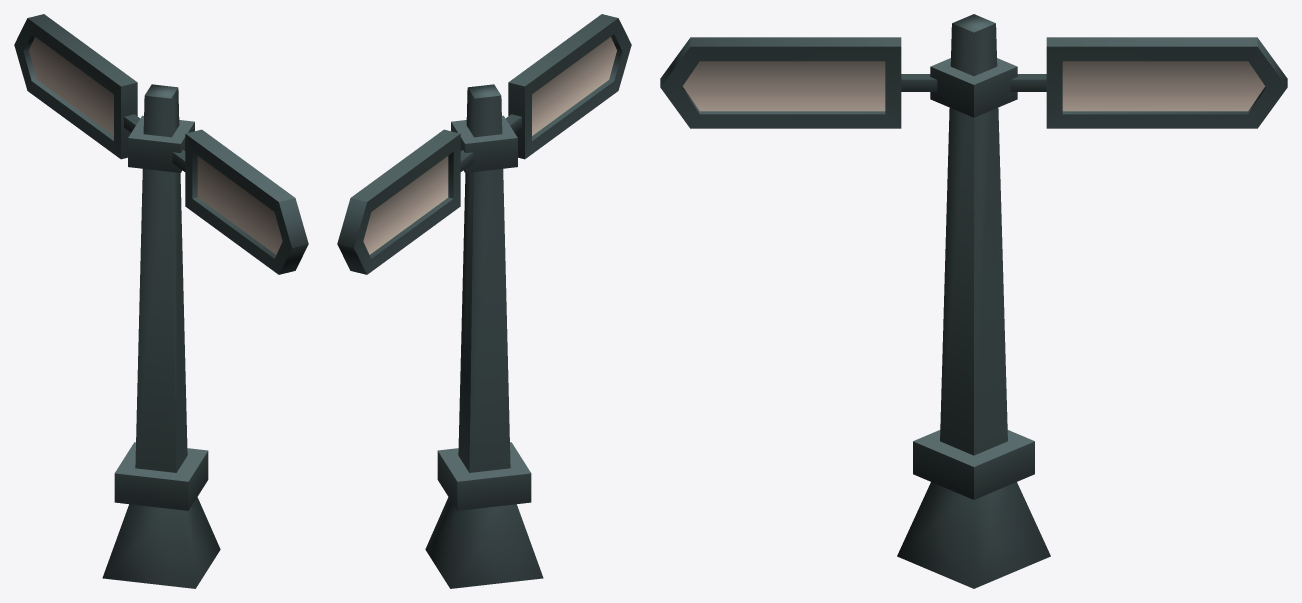
Rendered from Streetsign_1A.fbx.
3 renders of one model, left to right at view 1: azimuth 30°, elevation 25°; view 2: azimuth 150°, elevation 25°; view 3: azimuth 270°, elevation 25°, orthographic. The views are drawn at different scales.
Parts seen in each view (by area): view 1: Streetsign_1A; view 2: Streetsign_1A; view 3: Streetsign_1A.
Part boxes in pixels (<box>): Streetsign_1A: <box>14,14,308,588</box>; Streetsign_1A: <box>337,14,631,588</box>; Streetsign_1A: <box>660,14,1287,588</box>.
Bounding box in the file's own units: 84.99 × 324 × 346.
